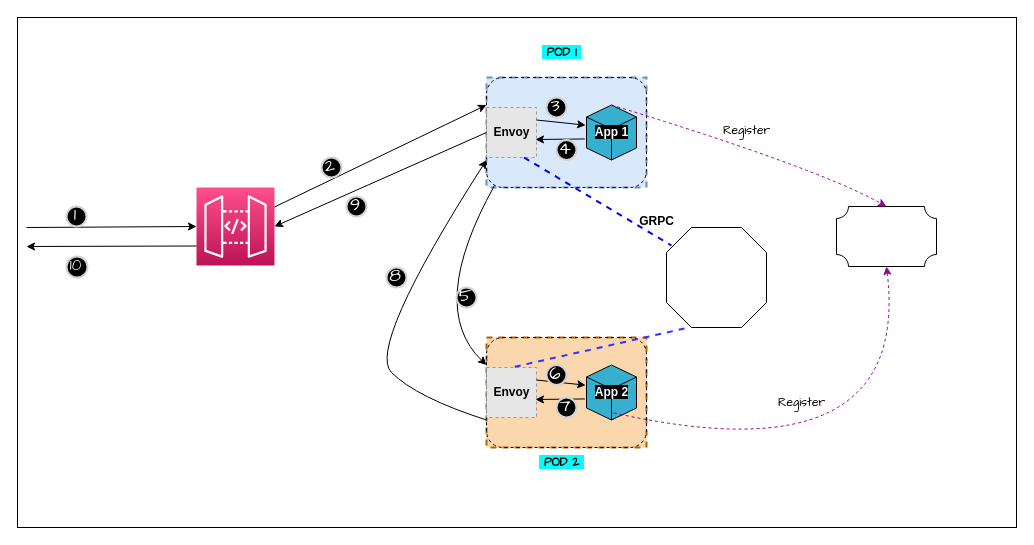
This 1034x545 diagram has some shape labels left out. Grey dashed boxes stand in for pictures. Here are the shapes that lost their labels. From the top down, the centre of each, then its label:
At point (886, 236): "Service Discovery".
At point (716, 277): "Management Server".
